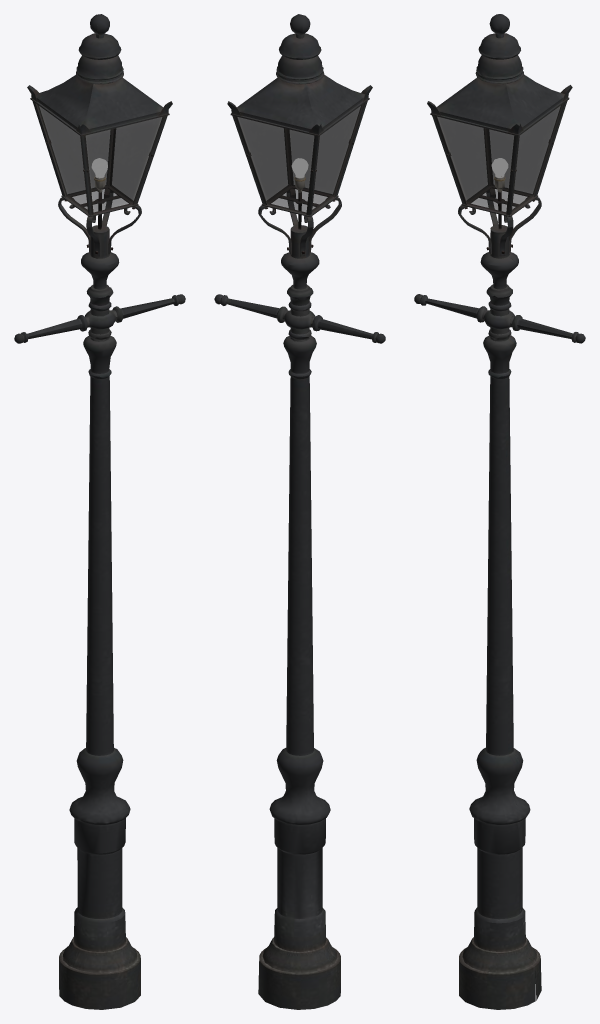
Rendered from street_lamp.glb.
3 views of the same model, side by side, from view 1: azimuth 30°, elevation 25°; view 2: azimuth 150°, elevation 25°; view 3: azimuth 330°, elevation 25° (orthographic).
Parts seen in each view (by area): view 1: street_lamp; view 2: street_lamp; view 3: street_lamp.
Part boxes in pixels (bbox=[...]): street_lamp: bbox=[14, 14, 185, 1009]; street_lamp: bbox=[214, 14, 385, 1009]; street_lamp: bbox=[414, 14, 585, 1009].
Bounding box in the file's own units: 0.7047 × 3.87 × 0.3846.
Materials: 3 (3 with a texture image).
